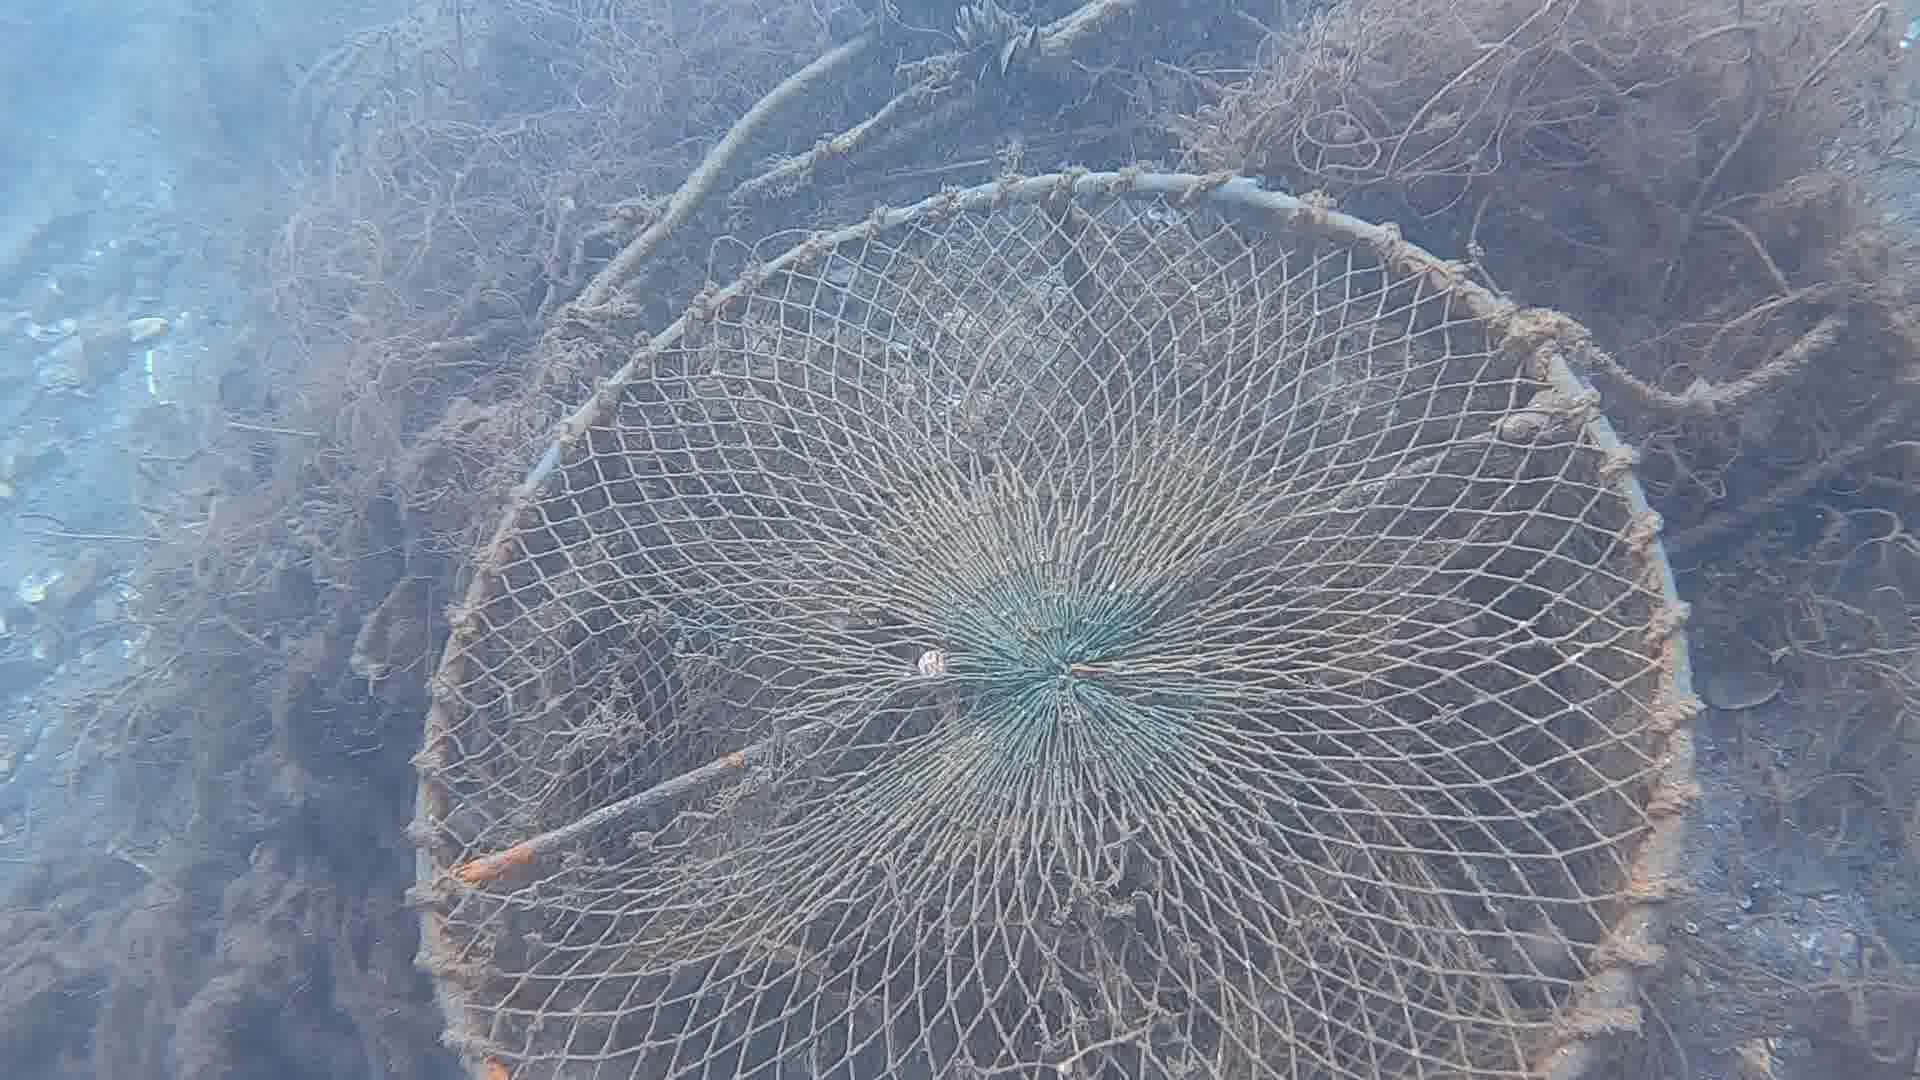circular fish trap: (402, 160, 1708, 1080)
